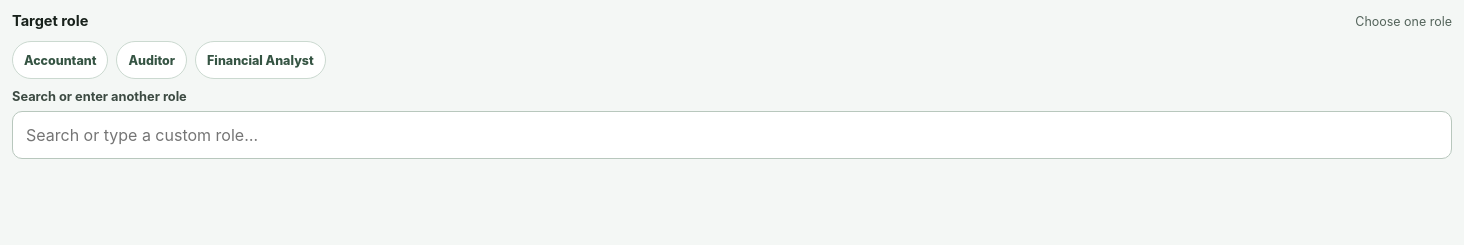
Test: InterviewRoleSelector › exposes combobox semantics and replaces the previous selection
Click the button "Accountant" at [60, 60], box 12,41 -> 108,79
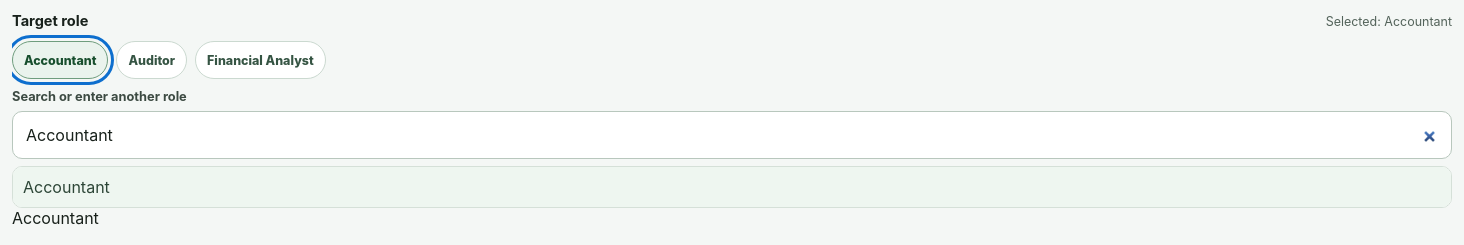
Now the text named "Selected role" reads "Accountant", box 12,208 -> 99,228
Click the button "Financial Analyst" at [260, 60], box 195,41 -> 326,79
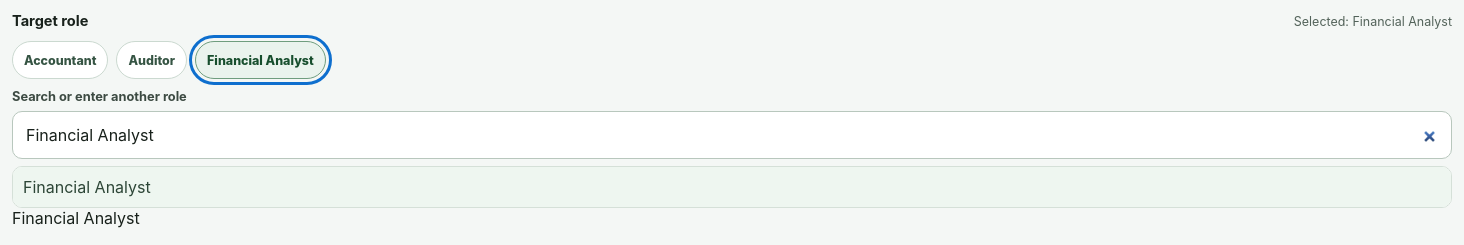
Now the text named "Selected role" reads "Financial Analyst", box 12,208 -> 140,228
